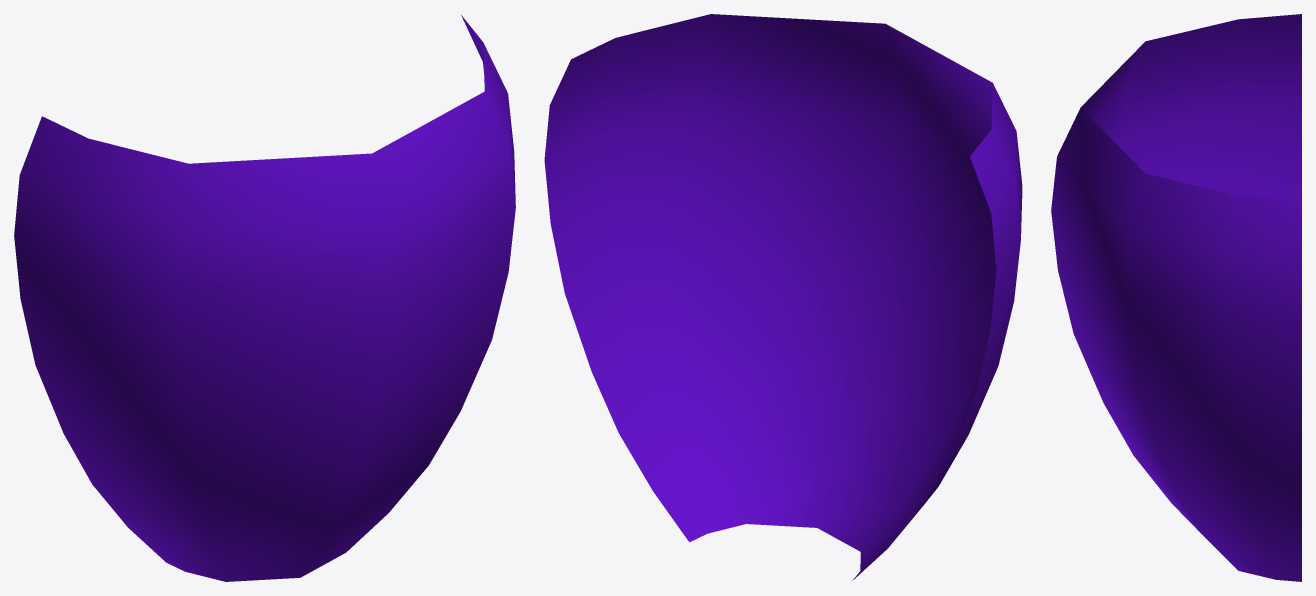
File: PotionLiquid_Witchbrew.fbx
The picture shows the model from 3 angles, left to right: view 1: azimuth 30°, elevation 25°; view 2: azimuth 150°, elevation 25°; view 3: azimuth 270°, elevation 25°; orthographic projection. The views are drawn at different scales.
Parts seen in each view (by area): view 1: PotionLiquid_Witchbrew; view 2: PotionLiquid_Witchbrew; view 3: PotionLiquid_Witchbrew.
Boxes of the visible parts, bbox=[...] form: PotionLiquid_Witchbrew: bbox=[14, 15, 515, 581]; PotionLiquid_Witchbrew: bbox=[544, 14, 1022, 580]; PotionLiquid_Witchbrew: bbox=[1051, 14, 1301, 581].
Bounding box in the file's own units: 59.92 × 57.54 × 29.96.
